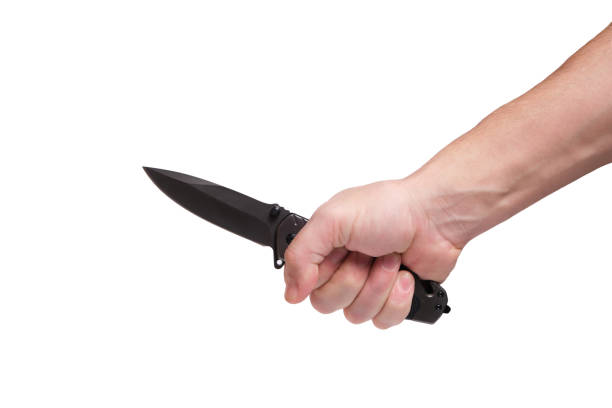knife: (141, 164, 454, 327)
